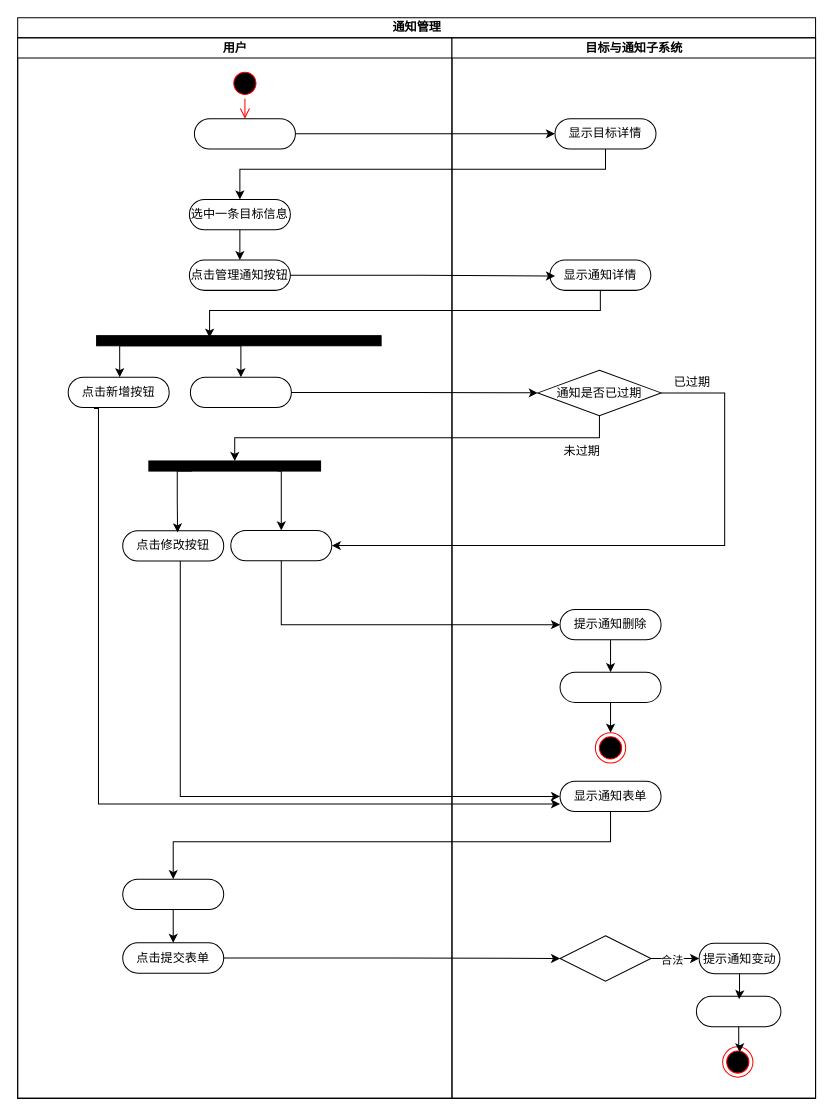
Image size: 833x1116. Some labels were removed from this diagram. The centre of each missing label's shape, as x and y in pixels:
保存新信息: the point at 738,1011
删除通知: the point at 610,686
填写通知表单: the point at 173,894
点击删除按钮: the point at 281,545
进入目标管理页面: the point at 244,133
选中一条通知信息: the point at 240,392
验证是否合法: the point at 605,958
